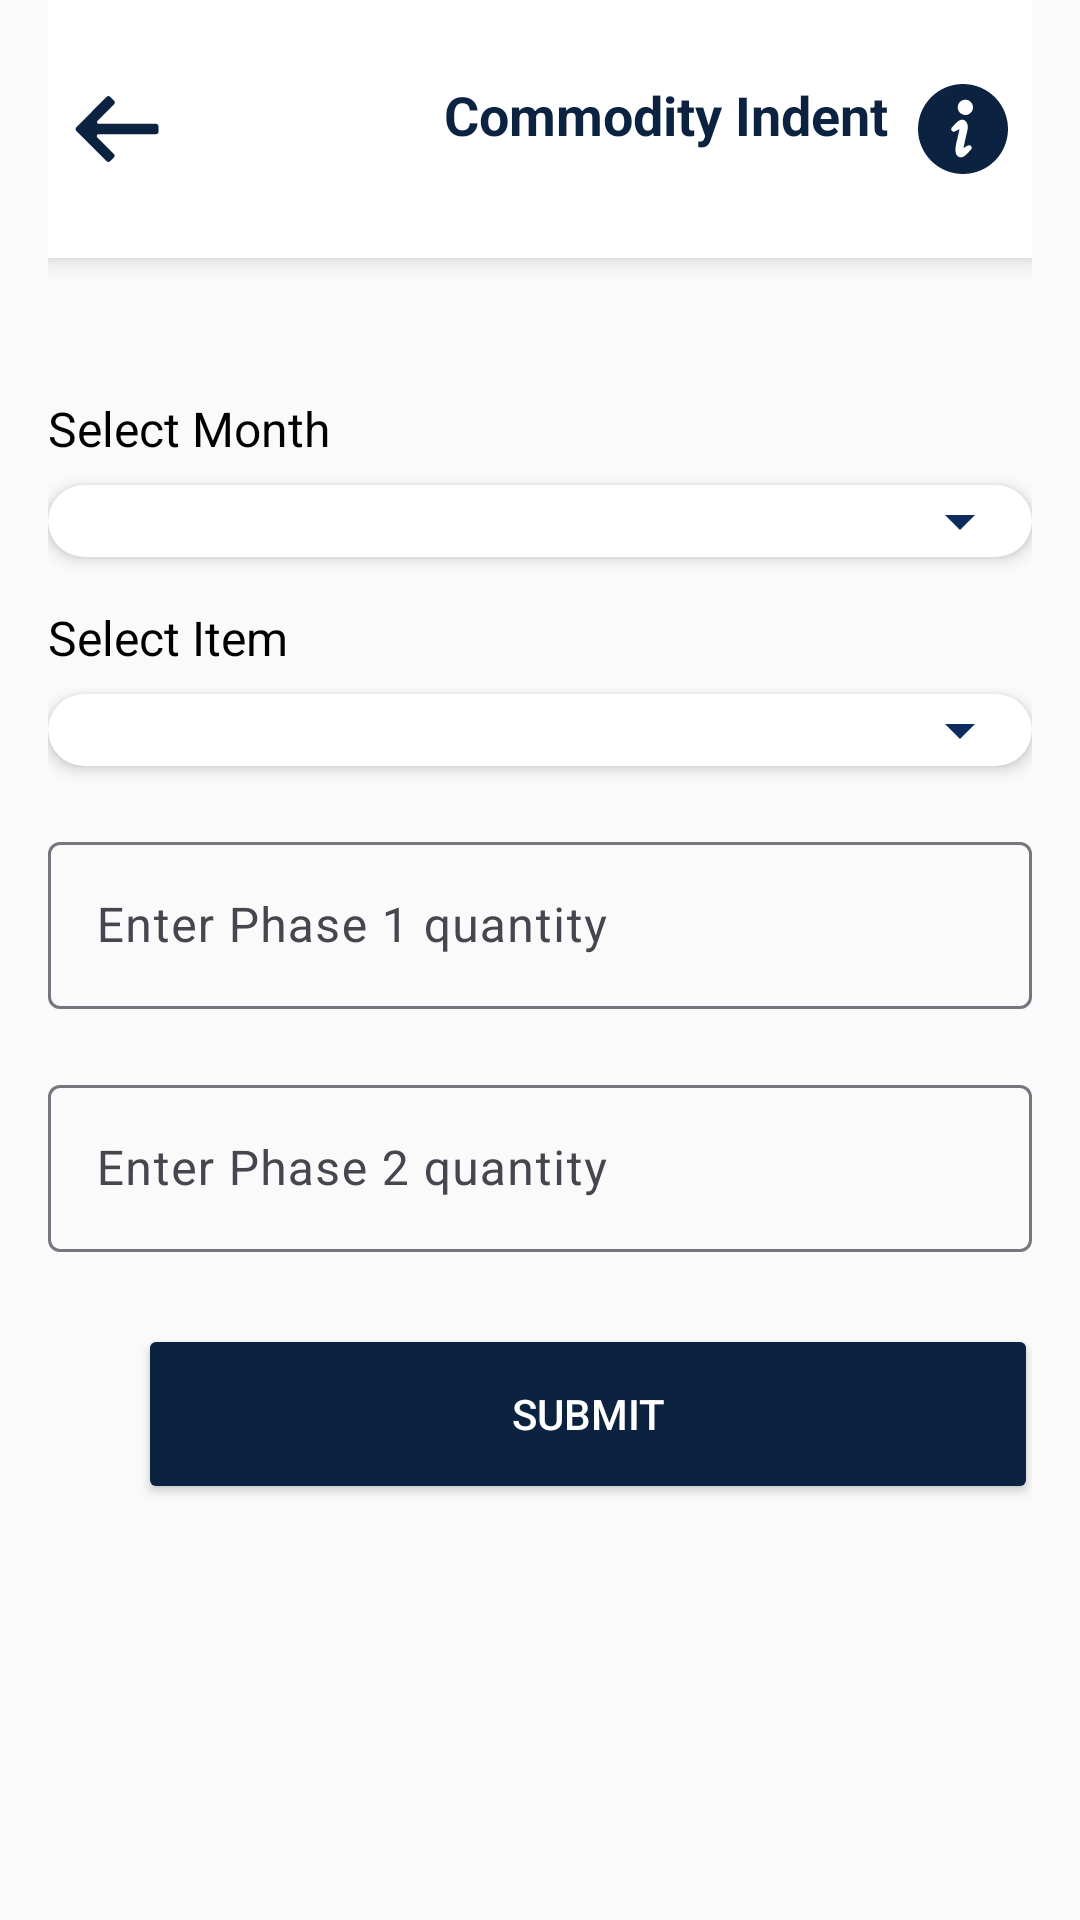

Where to tap for icons on this 1080w x 1920h app screen, as point (x, y):
back: point (117, 129)
Information: point (963, 129)
